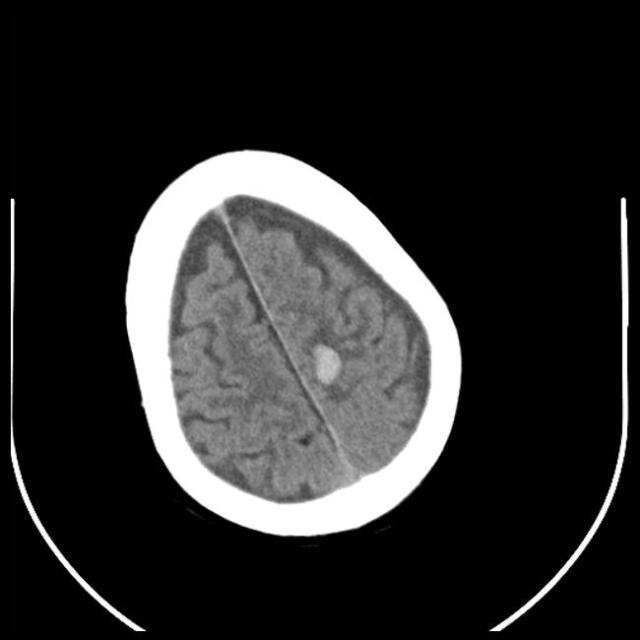lesion: (120, 144, 468, 542)
